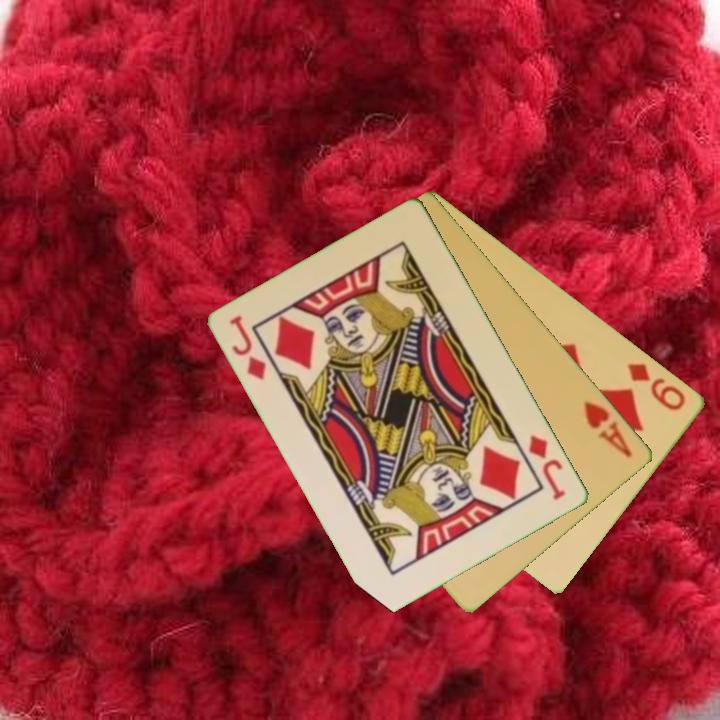9d: (624, 359, 690, 414)
Ah: (580, 398, 636, 461)
Jd: (525, 431, 569, 503), (226, 312, 270, 383)
